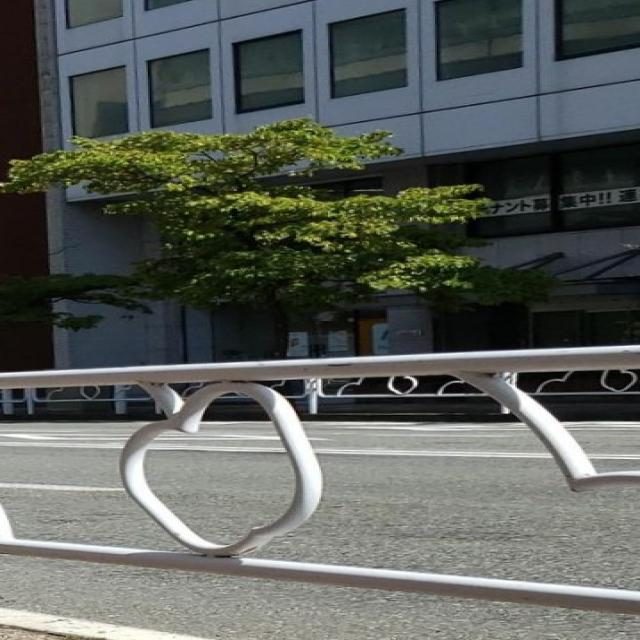dogwood: (0, 116, 498, 409)
